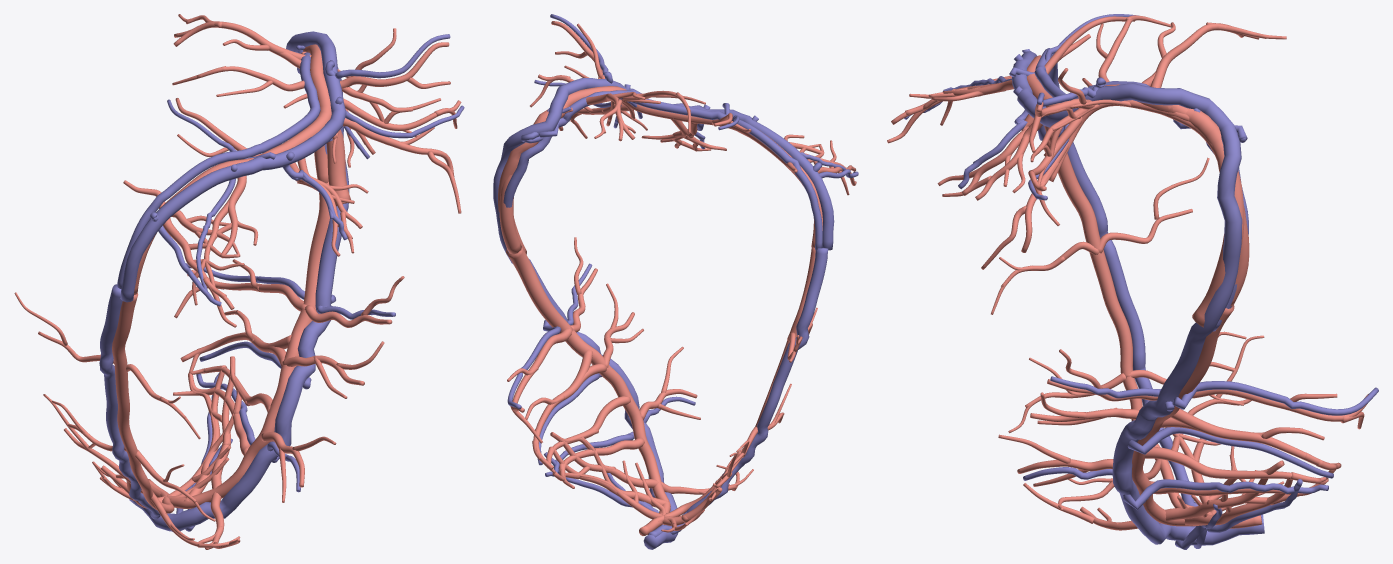
Rendered from vessels_42.glb.
3 renders of one model, left to right at view 1: azimuth 30°, elevation 25°; view 2: azimuth 150°, elevation 25°; view 3: azimuth 270°, elevation 25°, orthographic. The views are drawn at different scales.
Parts seen in each view (by area): view 1: Renderer Node; view 2: Renderer Node; view 3: Renderer Node.
Boxes of the visible parts, x1,y1,x2,y2 form: Renderer Node: [14, 14, 464, 549]; Renderer Node: [493, 14, 858, 549]; Renderer Node: [887, 14, 1378, 549].
Bounding box in the file's own units: 94.67 × 122 × 95.3.
